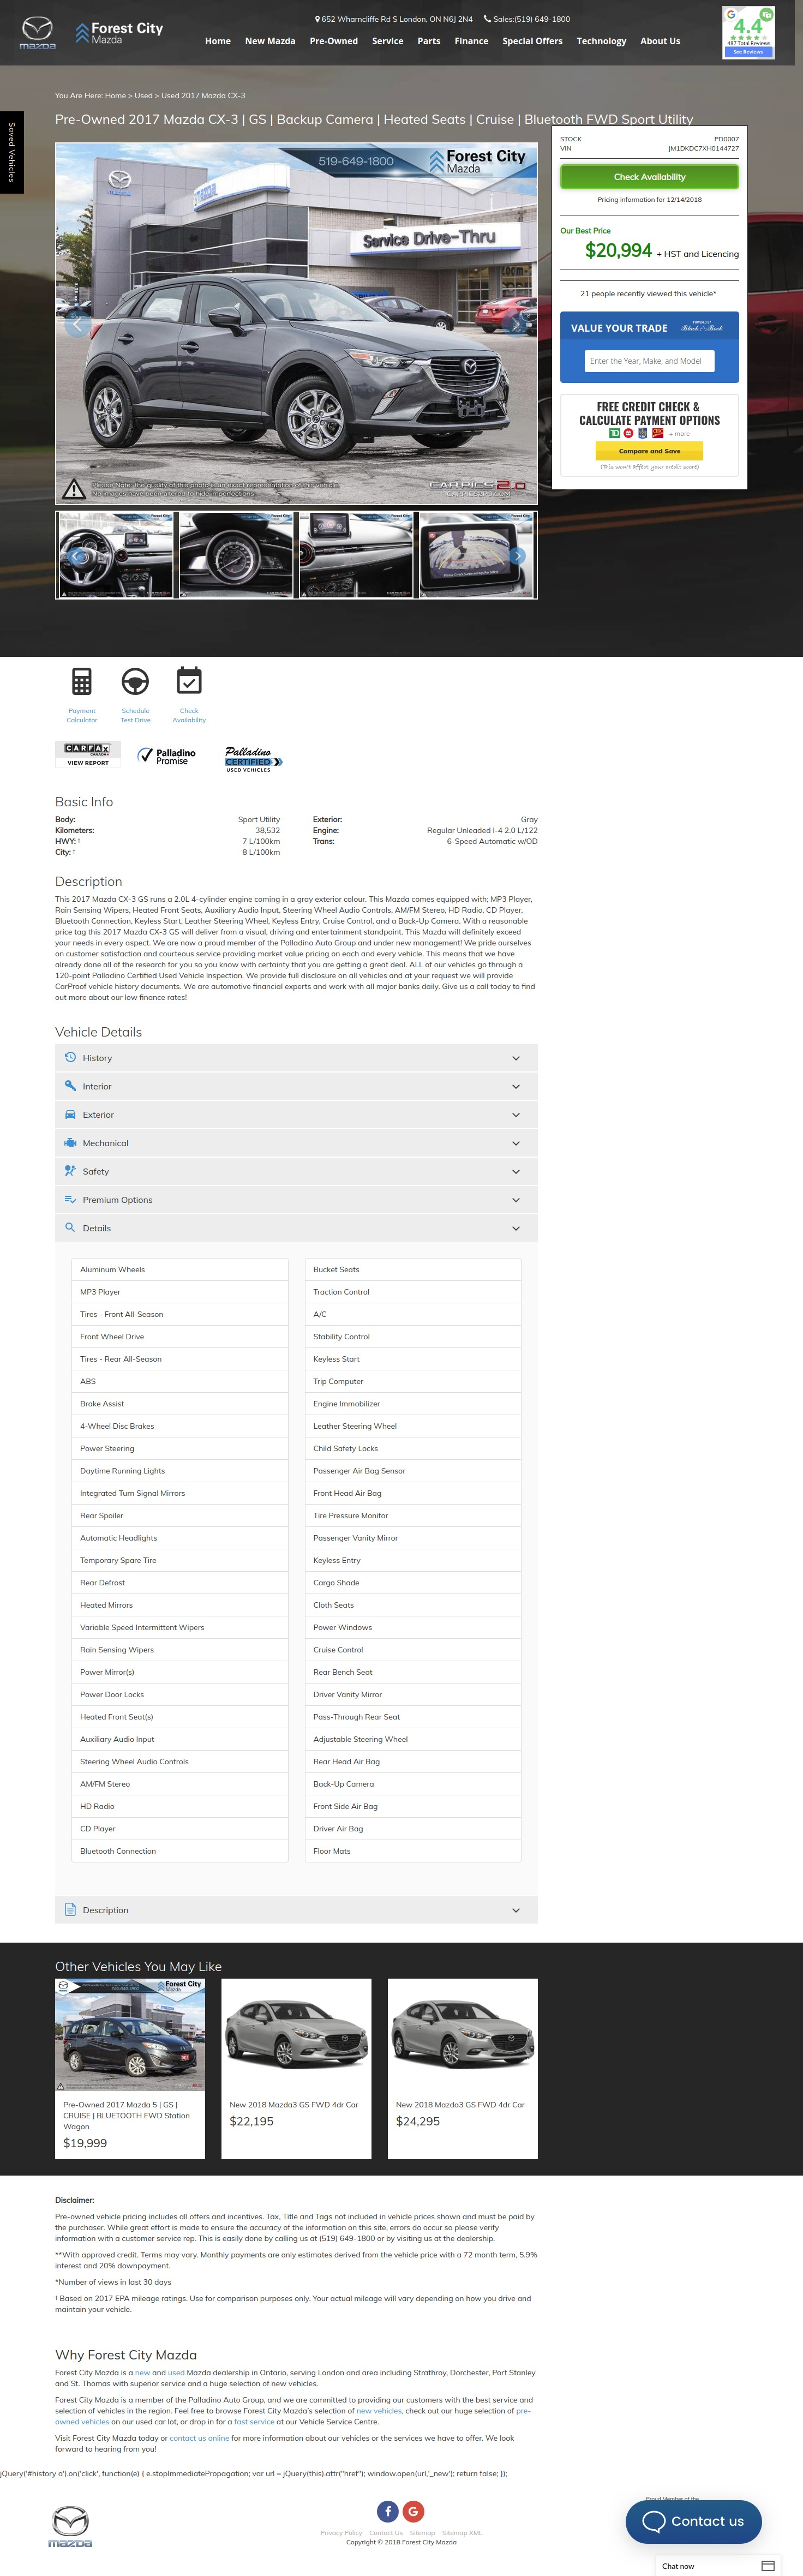car: (516, 552, 522, 562)
